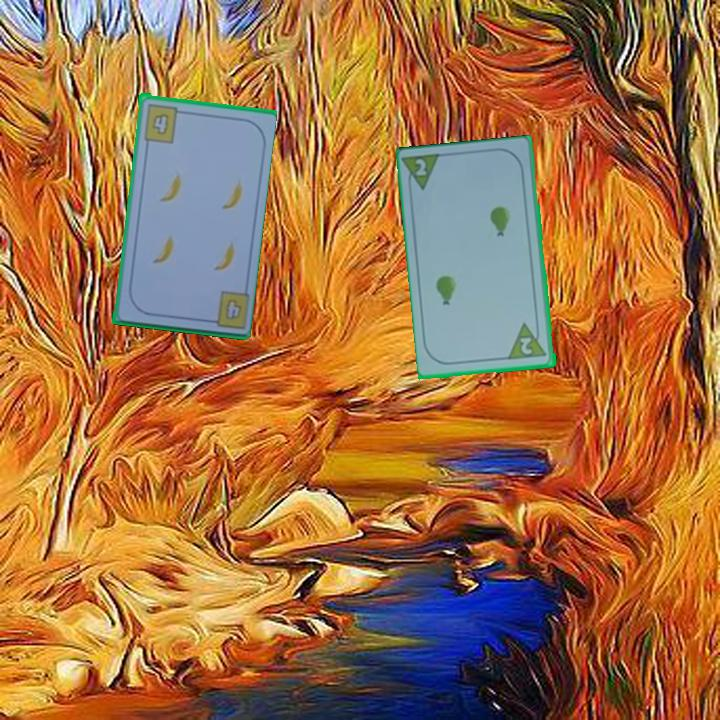2p: (401, 151, 445, 196), (506, 319, 550, 363)
4b: (202, 287, 250, 331), (140, 100, 186, 145)
